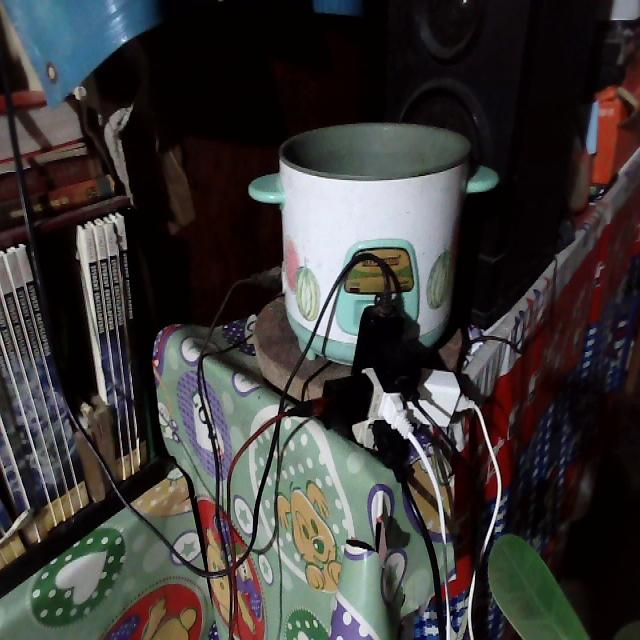-: (311, 304, 463, 481)
